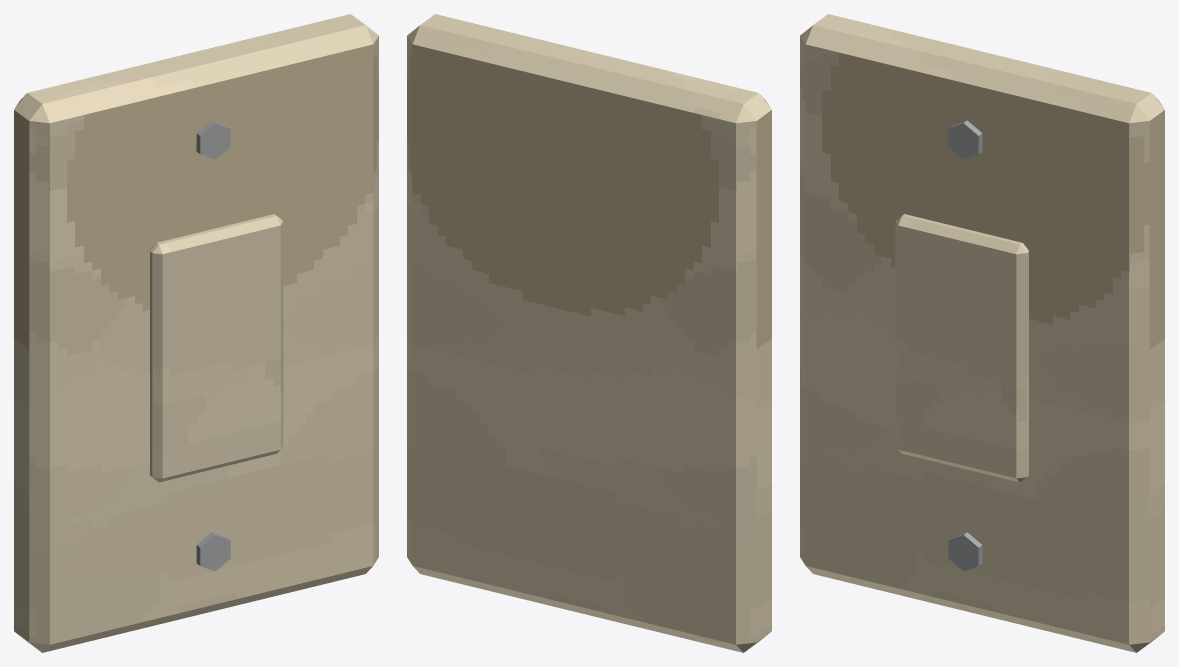
Rendered from gk_switch.glb.
3 renders of one model, left to right at view 1: azimuth 30°, elevation 25°; view 2: azimuth 150°, elevation 25°; view 3: azimuth 330°, elevation 25°, orthographic.
Parts seen in each view (by area): view 1: p; view 2: p; view 3: p.
Part boxes in pixels (x1=…): p: x1=14, y1=14, x2=378, y2=652; p: x1=407, y1=14, x2=771, y2=652; p: x1=800, y1=14, x2=1164, y2=652.
Size of the model in its own units: 0.08 by 0.12 by 0.016.
Materials: 2 (2 with a texture image).
